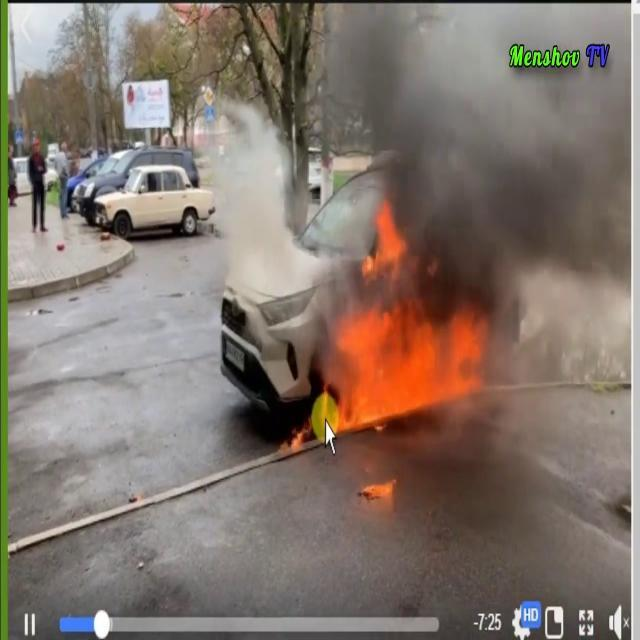Fire: (315, 291, 489, 433)
Smoke: (323, 3, 631, 305), (192, 85, 320, 312)
